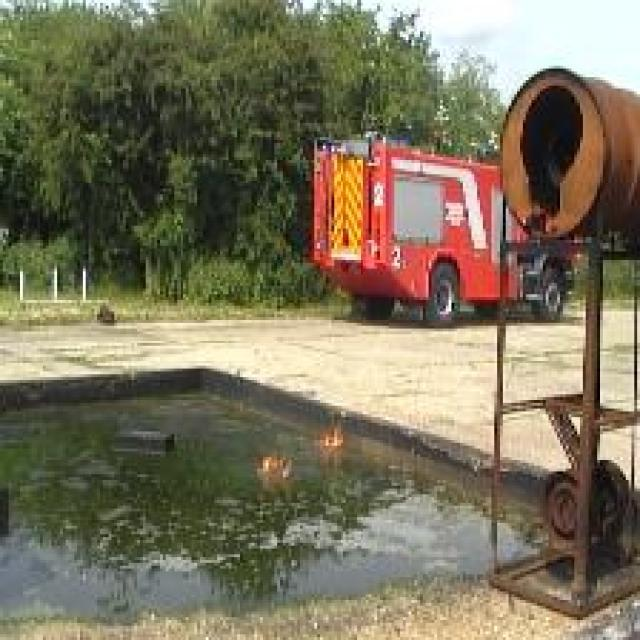Fire: (260, 454, 294, 477), (320, 424, 346, 447)
